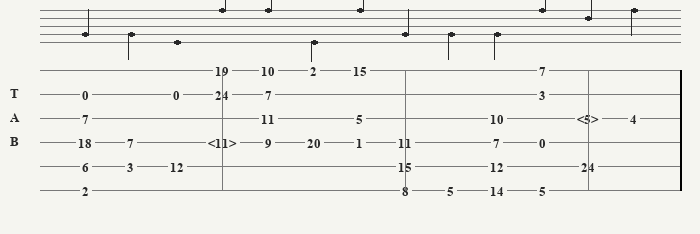0: (82, 88, 93, 101), (173, 88, 184, 101), (539, 136, 550, 149)
1: (356, 136, 367, 149)
10: (261, 64, 279, 77), (490, 112, 508, 125)
11: (261, 112, 279, 125), (398, 136, 416, 149)
12: (170, 160, 188, 173), (490, 160, 508, 173)
14: (490, 184, 508, 197)
15: (353, 64, 371, 77), (398, 160, 416, 173)
18: (78, 136, 96, 149)
19: (215, 64, 233, 77)
2: (82, 184, 93, 197), (310, 64, 321, 77)
20: (307, 136, 325, 149)
24: (215, 88, 233, 101), (581, 160, 599, 173)
3: (127, 160, 138, 173), (539, 88, 550, 101)
4: (630, 112, 641, 125)
5: (356, 112, 367, 125), (447, 184, 458, 197), (539, 184, 550, 197)
6: (82, 160, 93, 173)
7: (82, 112, 93, 125), (127, 136, 138, 149), (265, 88, 276, 101), (493, 136, 504, 149), (539, 64, 550, 77)
8: (402, 184, 413, 197)
9: (265, 136, 276, 149)
harmonic: (208, 136, 241, 149), (577, 112, 603, 125)
